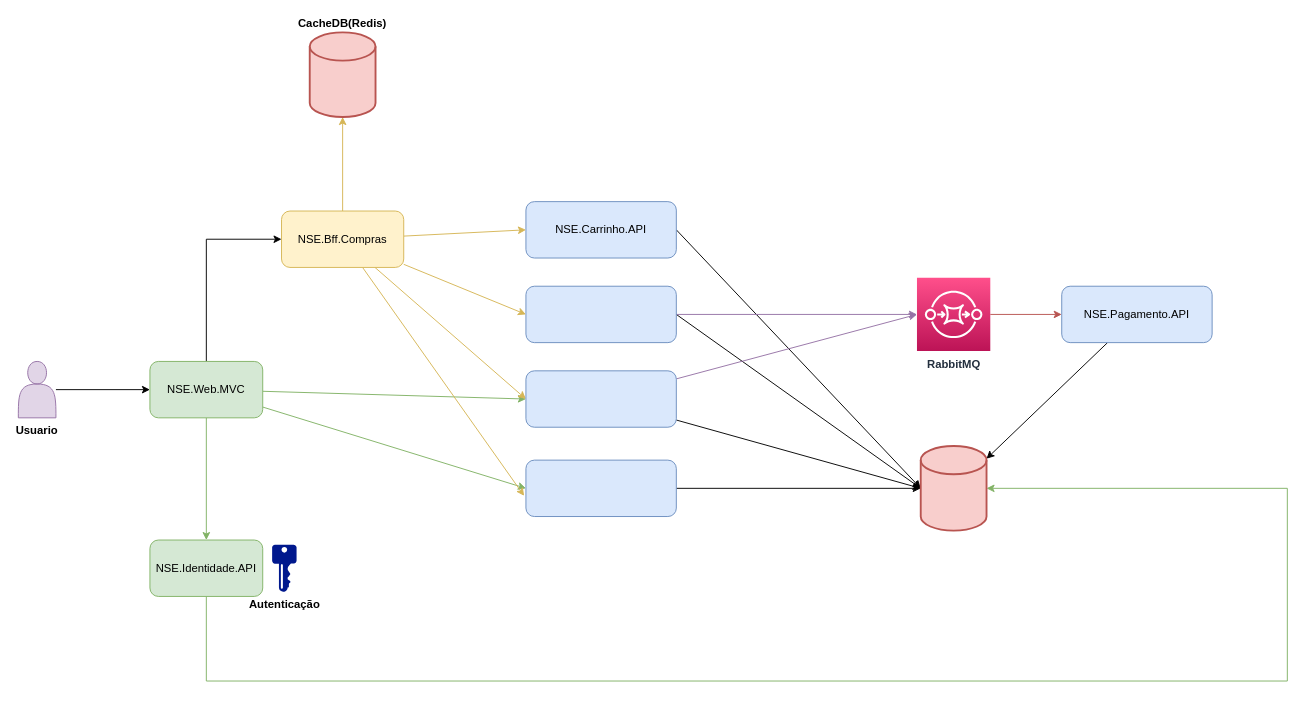
This 1311x705 diagram has some shape labels left out. The shapes that lost their labels are listed below. From the top down, each one's box as (x1, y1, x2, y2) in pixels, then its label:
(525, 285, 676, 343): NSE.Pedido.API
(525, 370, 676, 427): NSE.Catalogo.API
(525, 459, 676, 517): NSE.Cliente.API
(919, 445, 987, 531): NerdStoreEnterpriseDB(SqlServer)
